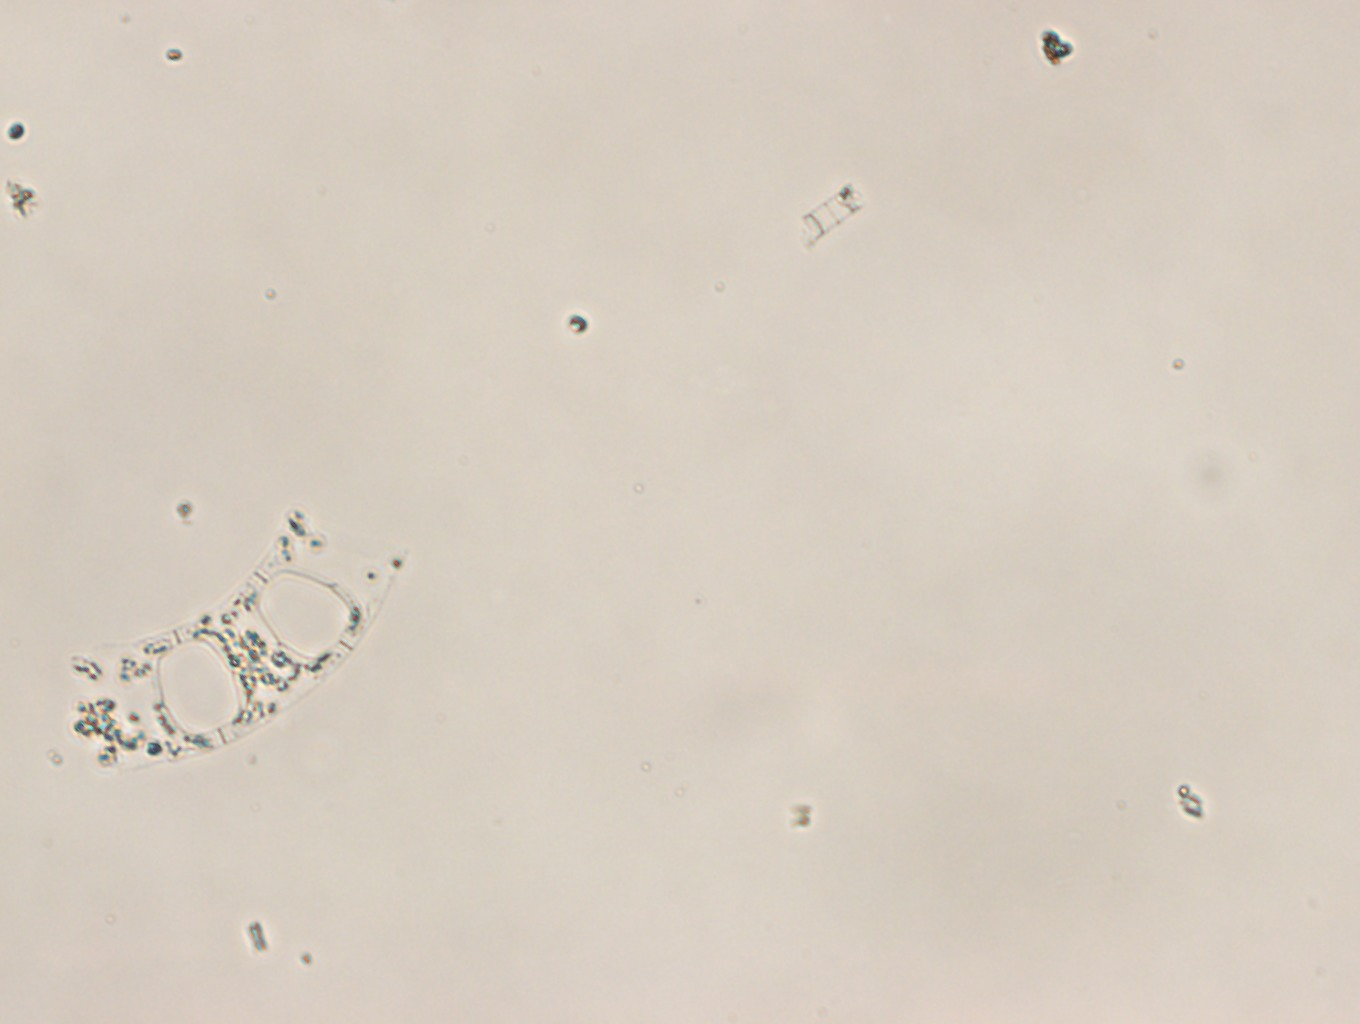eucampia: (65, 503, 407, 778)
